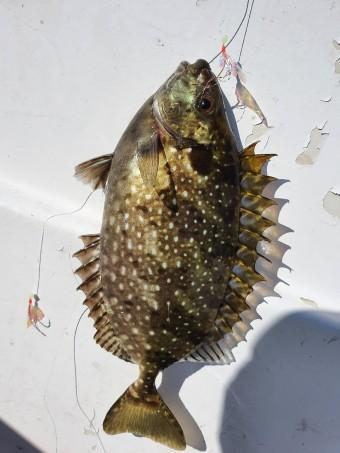fish: (73, 59, 287, 449)
